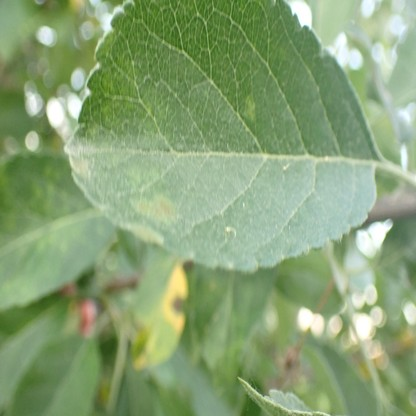scab: (0, 170, 82, 258), (0, 277, 40, 307), (130, 199, 176, 216), (246, 98, 256, 123), (70, 157, 87, 171)
